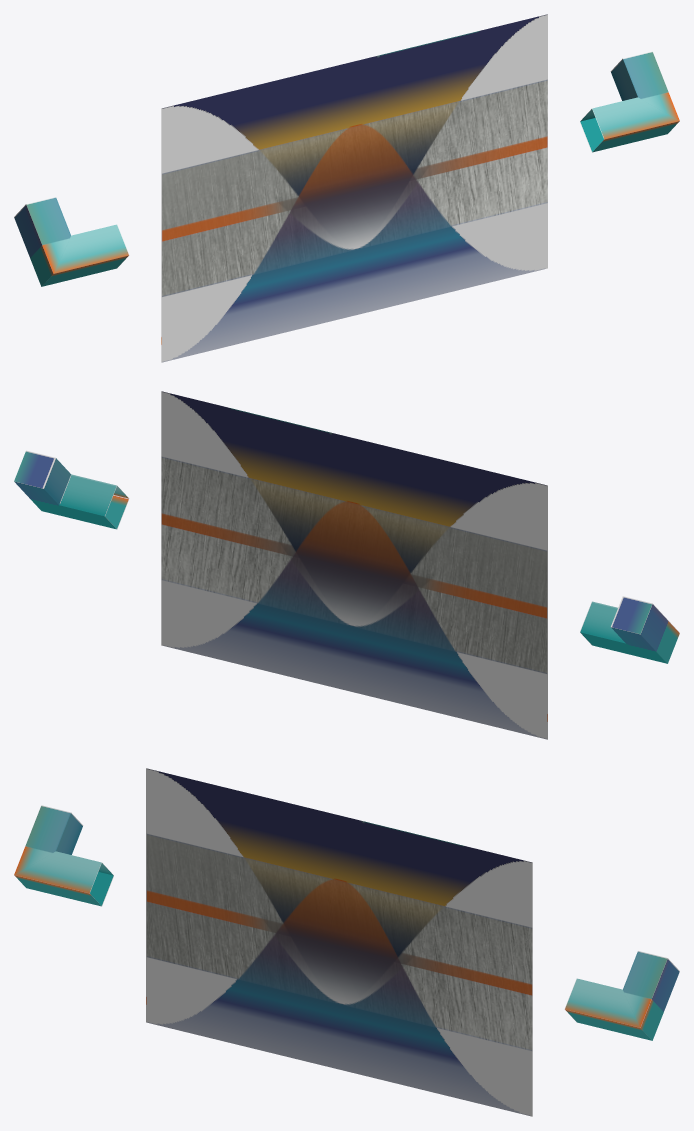
The model's file is maskB_3.obj.
The picture shows the model from 3 angles, top to bottom: view 1: azimuth 30°, elevation 25°; view 2: azimuth 150°, elevation 25°; view 3: azimuth 330°, elevation 25°; orthographic projection.
Visible parts, largest first — view 1: inside_head, horn_R, horn_L; view 2: inside_head, horn_L, horn_R; view 3: inside_head, horn_L, horn_R.
Part boxes in pixels (left/top/right/bottom): inside_head: left=161, top=14, right=547, bottom=362; horn_R: left=14, top=197, right=129, bottom=286; horn_L: left=580, top=51, right=679, bottom=152; inside_head: left=161, top=391, right=547, bottom=739; horn_L: left=14, top=450, right=129, bottom=529; horn_R: left=580, top=596, right=679, bottom=663; inside_head: left=146, top=768, right=532, bottom=1116; horn_L: left=564, top=951, right=679, bottom=1040; horn_R: left=14, top=805, right=113, bottom=906.
Bounding box in the file's own units: 270 × 105 × 29.54.
1 material, 1 textured.
